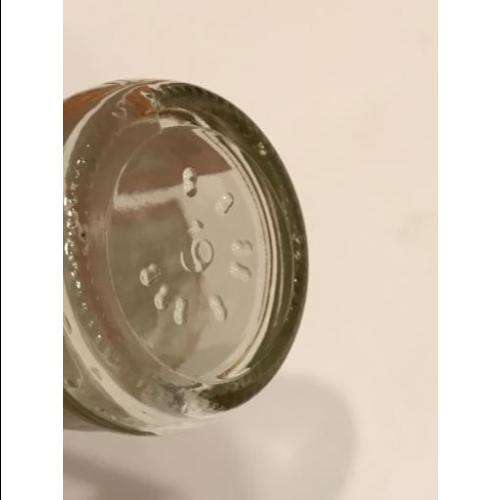glass: (64, 78, 306, 435)
